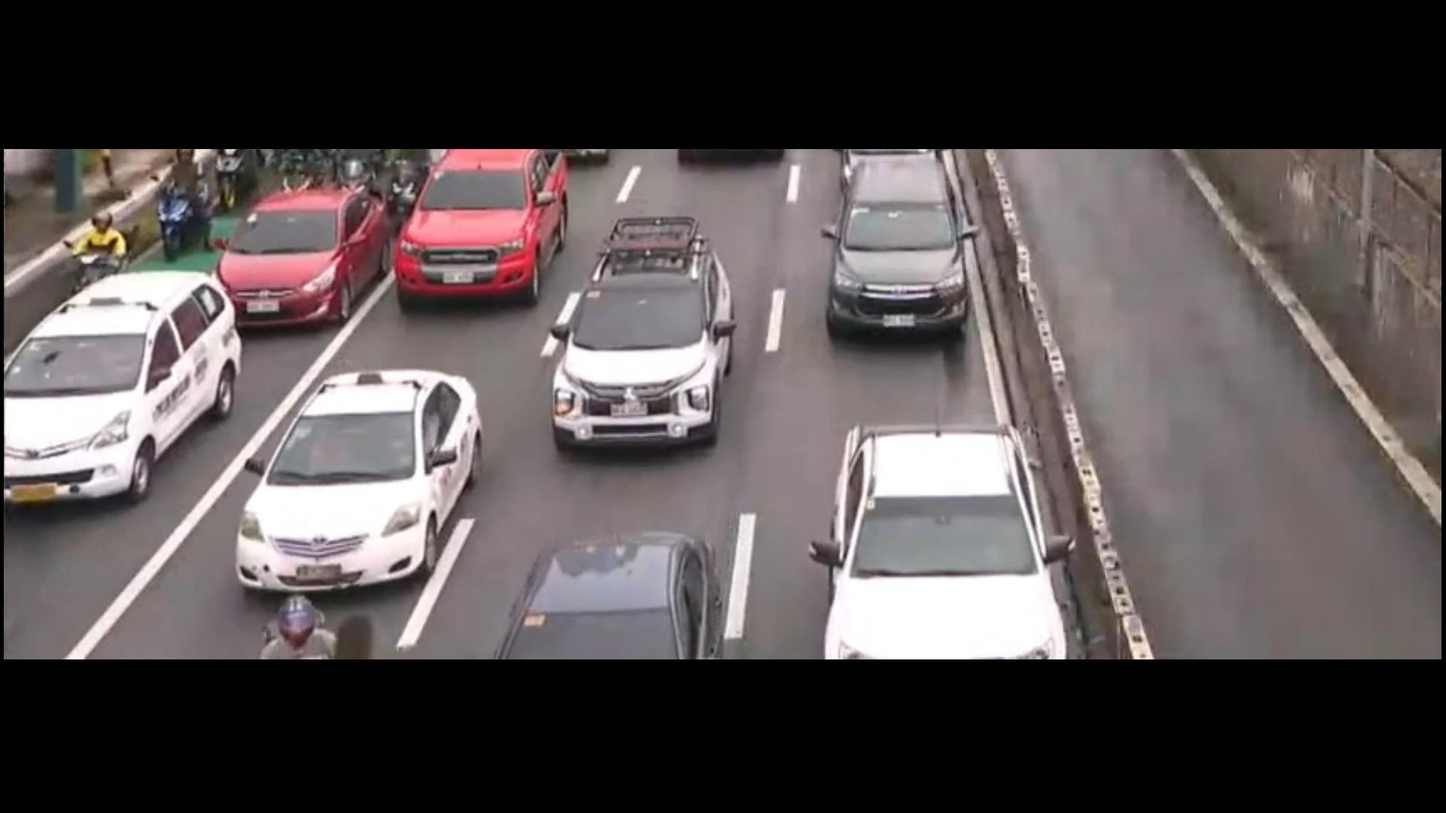Motorcycle: (141, 142, 230, 263), (42, 194, 138, 299), (199, 142, 268, 217), (372, 143, 433, 201), (273, 142, 322, 186), (336, 147, 373, 195)
Pickup: (806, 396, 1091, 662), (390, 136, 586, 311)
SUV: (0, 264, 243, 523), (536, 196, 744, 466), (789, 147, 1000, 356)
Sedan: (220, 347, 514, 597), (497, 525, 734, 660), (223, 162, 398, 325)
